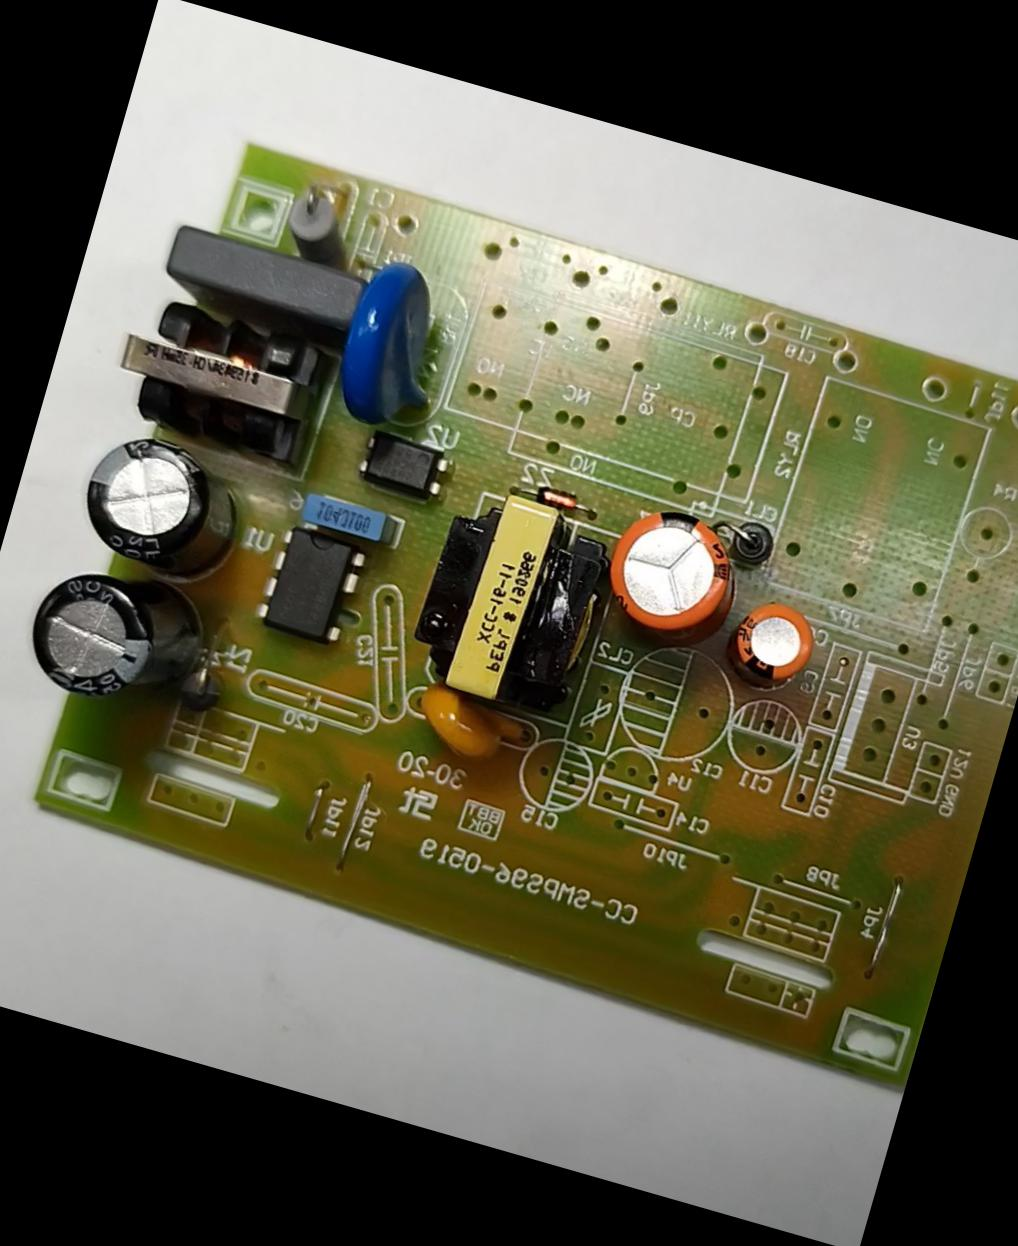Cap1: (597, 496, 750, 644)
Cap2: (727, 592, 827, 690)
Cap3: (68, 420, 259, 591)
Cap4: (17, 551, 205, 721), (272, 179, 365, 267)
MOSFET: (252, 521, 375, 650)
Mov: (322, 250, 463, 445)
Transformer: (401, 478, 624, 719), (89, 278, 338, 475)
